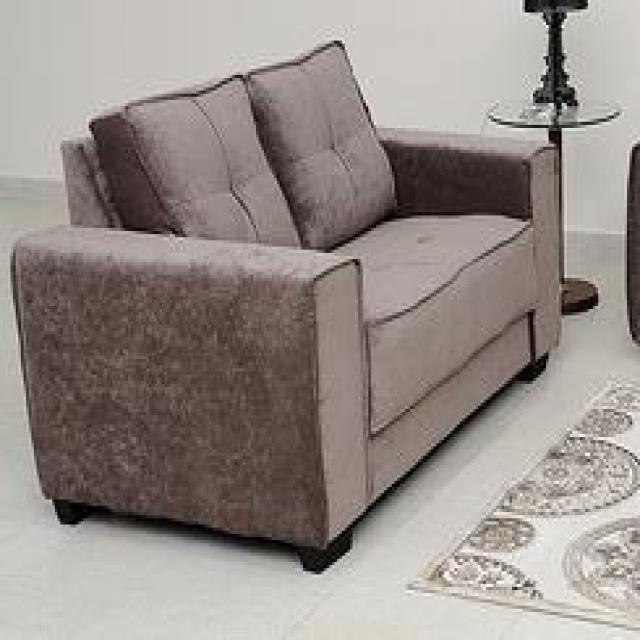sofa: (8, 38, 562, 572)
